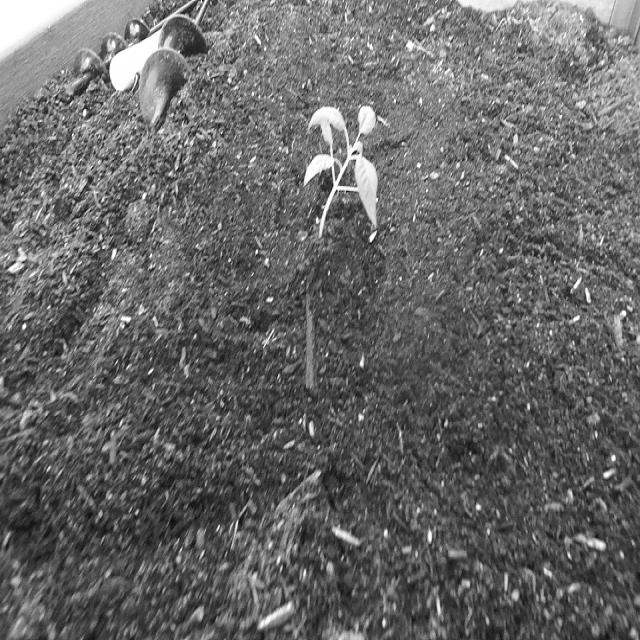Healthy: (298, 100, 386, 248)
